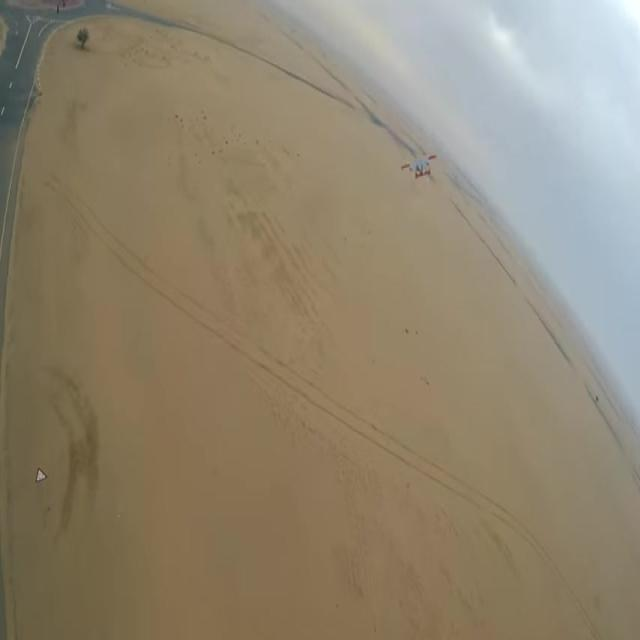iha: (400, 151, 438, 182)
